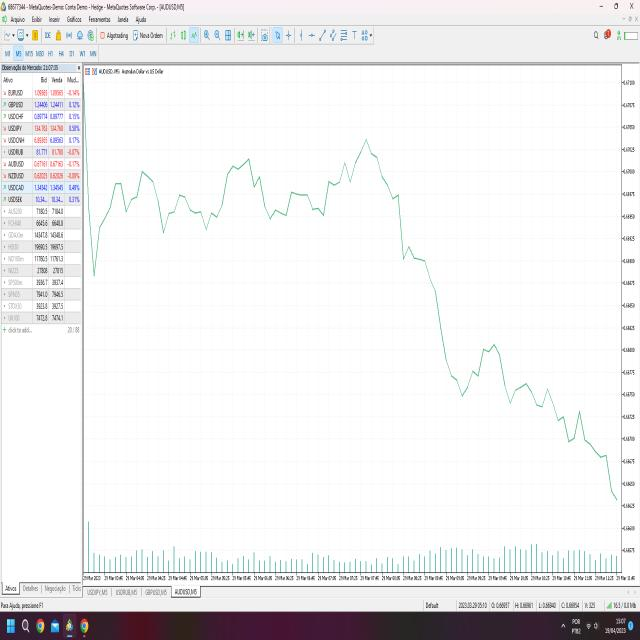oco: (320, 132, 409, 231)
